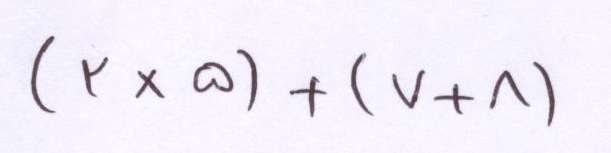character: (434, 84, 485, 137), (30, 35, 56, 115), (490, 70, 530, 112), (533, 61, 556, 125), (193, 62, 232, 95), (237, 48, 257, 112), (392, 70, 424, 108), (81, 56, 106, 97), (135, 69, 162, 99), (351, 53, 376, 75), (290, 76, 306, 97)
